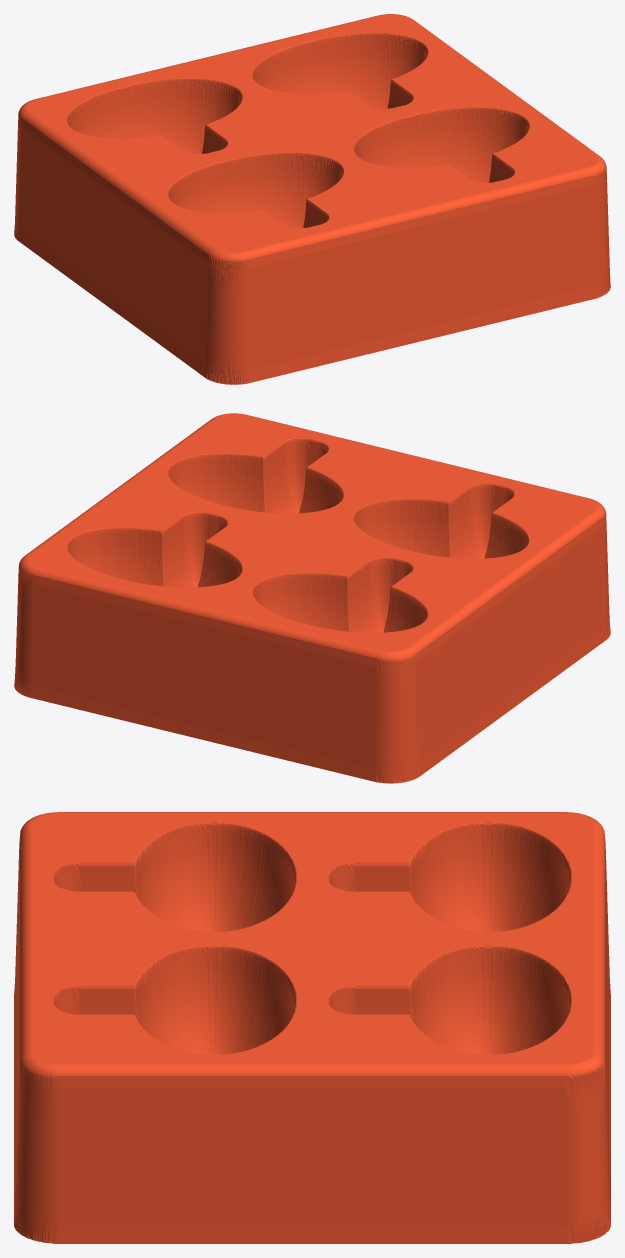
The model's file is mold.glb.
3 renders of one model, top to bottom at view 1: azimuth 30°, elevation 25°; view 2: azimuth 150°, elevation 25°; view 3: azimuth 270°, elevation 25°, orthographic. The views are drawn at different scales.
Parts seen in each view (by area): view 1: geometry_0; view 2: geometry_0; view 3: geometry_0.
Boxes of the visible parts, x1,y1,x2,y2 form: geometry_0: (14,14,610,384); geometry_0: (14,413,610,783); geometry_0: (14,812,610,1243).
Bounding box in the file's own units: 0.1248 × 0.0377 × 0.1184.
